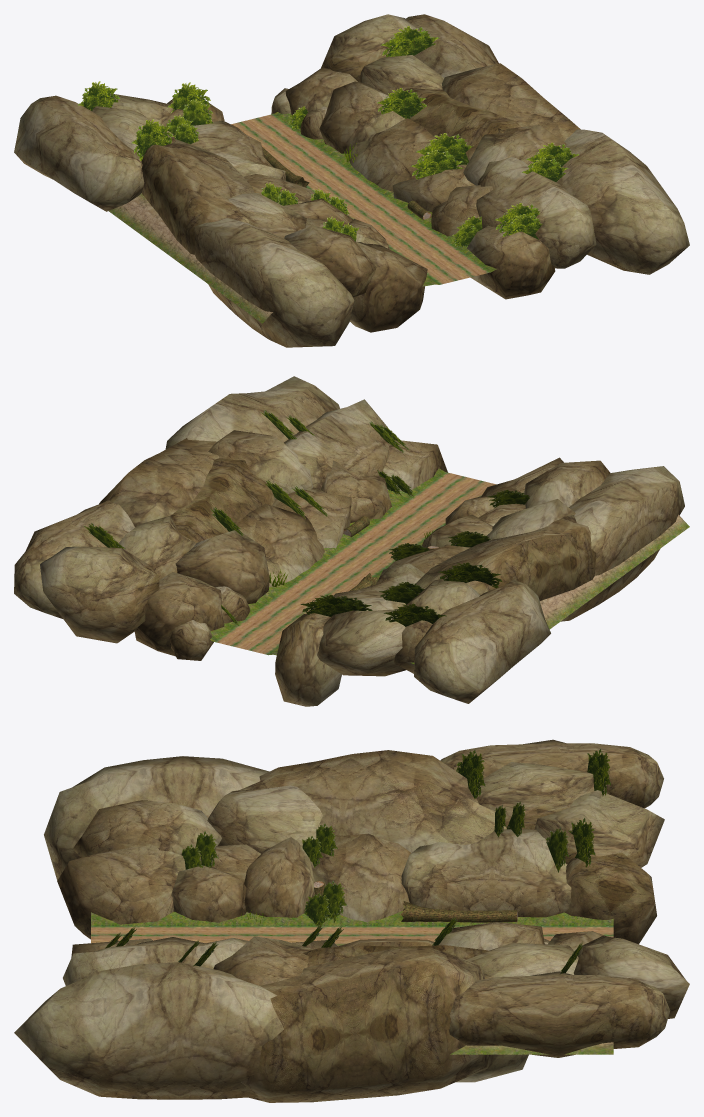
The model's file is BikeRoad08.FBX.
The picture shows the model from 3 angles, top to bottom: view 1: azimuth 30°, elevation 25°; view 2: azimuth 150°, elevation 25°; view 3: azimuth 270°, elevation 25°; orthographic projection. The views are drawn at different scales.
Visible parts, largest first — view 1: Rock (×27), Ground, Grass (×12); view 2: Rock (×29), Ground, Grass (×3); view 3: Rock (×25), Ground, Grass (×6), Stump.
Part boxes in pixels (x1,y1,x2,y2): Rock (×27): [14, 14, 689, 347]; Ground: [109, 112, 496, 323]; Grass (×12): [78, 26, 579, 239]; Rock (×29): [14, 376, 684, 706]; Ground: [210, 468, 689, 663]; Grass (×3): [300, 562, 502, 626]; Rock (×25): [14, 739, 689, 1102]; Ground: [91, 911, 613, 1054]; Grass (×6): [304, 748, 610, 926]; Stump: [400, 901, 517, 922].
Size of the model in its own units: 4783 by 1388 by 5173.
